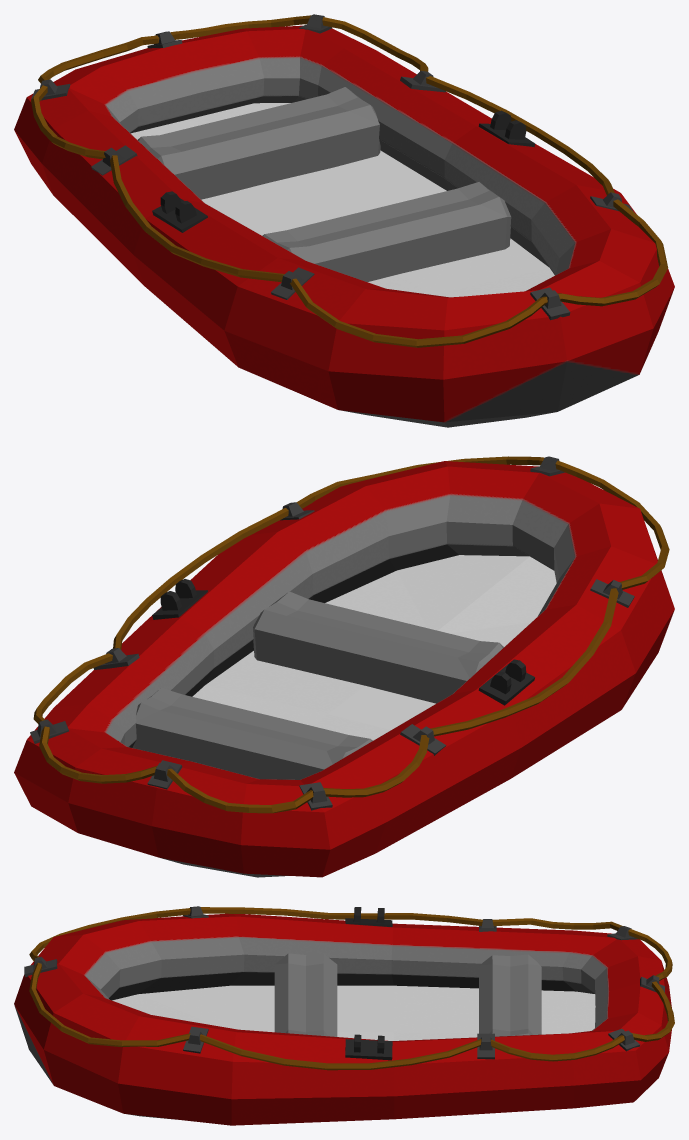
Rendered from Raft_Seats.FBX.
The picture shows the model from 3 angles, top to bottom: view 1: azimuth 30°, elevation 25°; view 2: azimuth 150°, elevation 25°; view 3: azimuth 270°, elevation 25°; orthographic projection. The views are drawn at different scales.
Parts seen in each view (by area): view 1: Object011; view 2: Object011; view 3: Object011.
Part boxes in pixels (x1,y1,x2,y2): Object011: (14,14,674,427); Object011: (14,456,674,877); Object011: (14,906,674,1125).
Bounding box in the file's own units: 390 × 131 × 684.
1 material, 1 textured.
